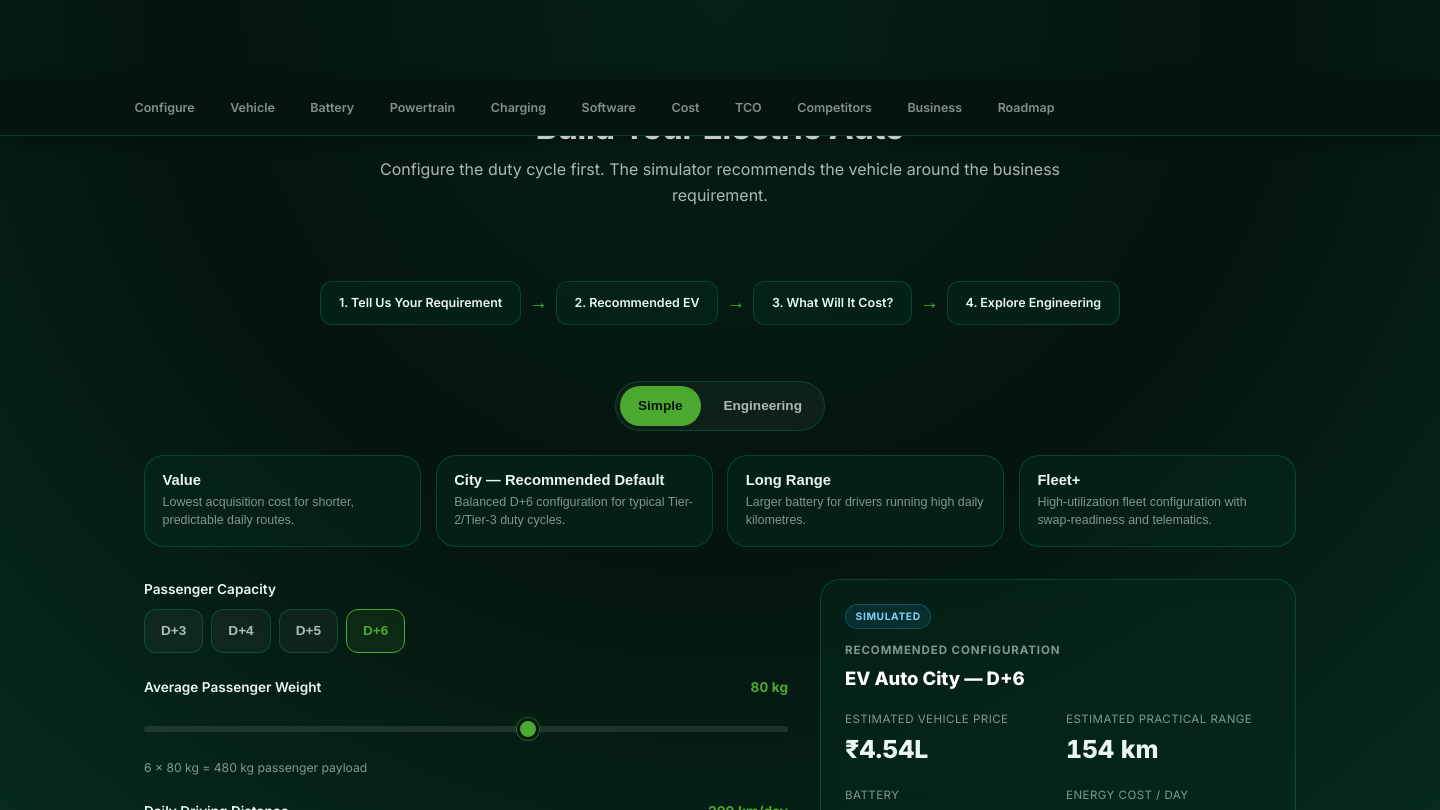
Test case: EV Auto Rickshaw configurator interactivity › switches to Engineering mode and shows the Reset to Recommended control
(page scrolled)
Click the button "Engineering": (763, 406) [705,386,820,426]
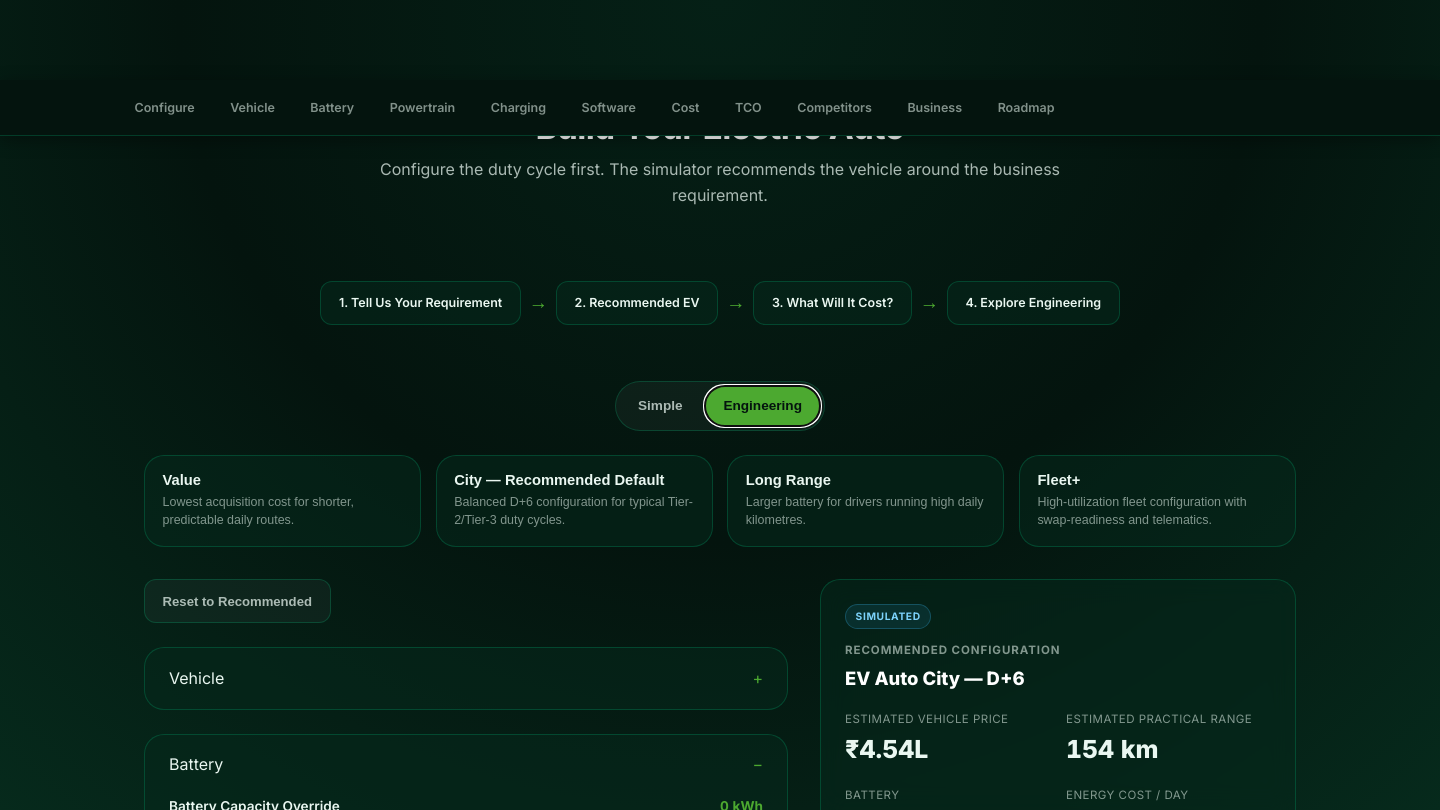
Check: the button "Reset to Recommended" is shown, box [144,579,330,623]
